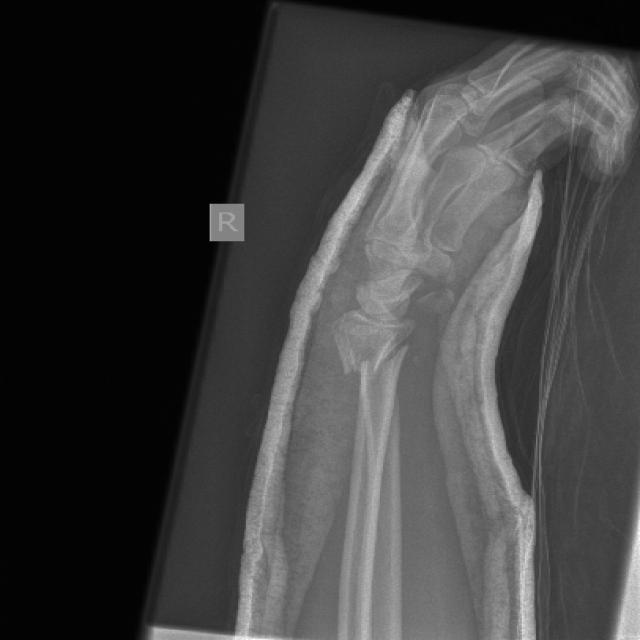wrist positive: (301, 326, 445, 397)
